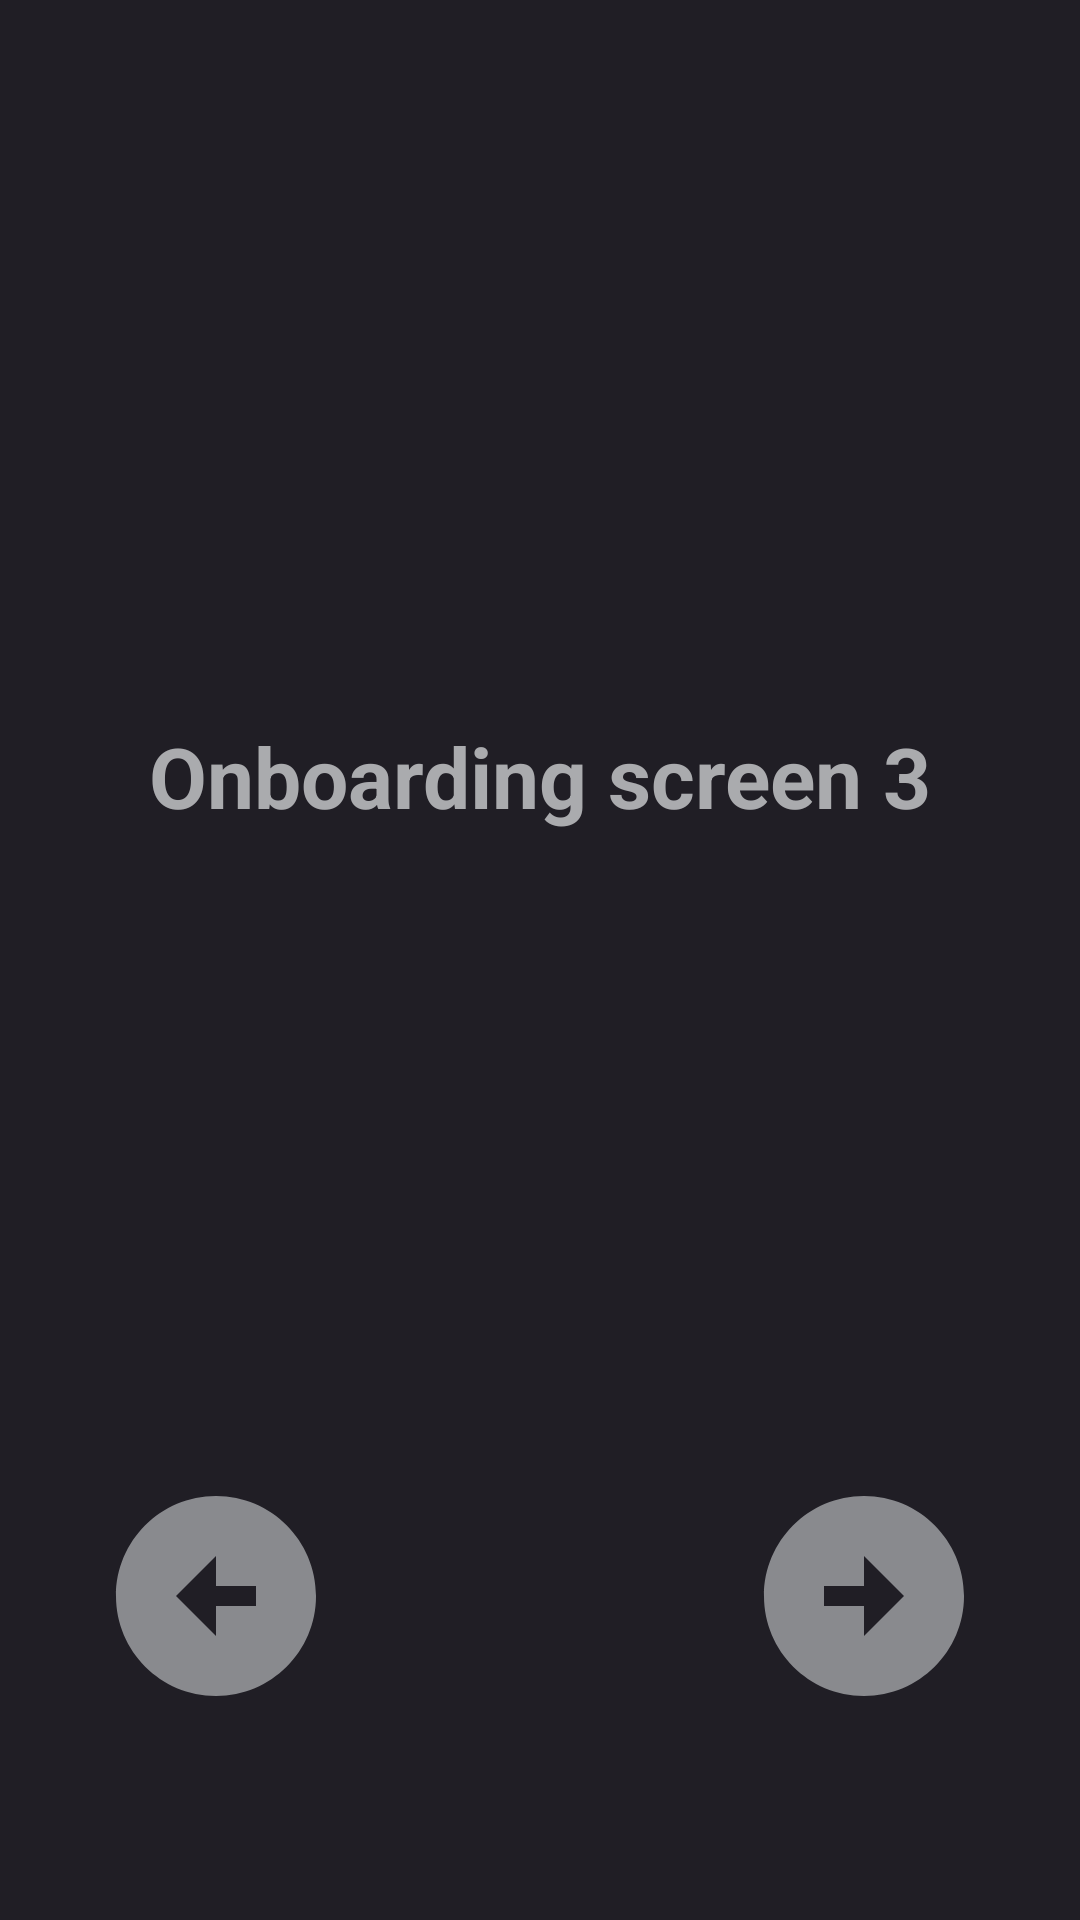

Where to tap for icons on this 1080*1920 app screen, as (x,y):
back: (216,1596)
next: (864,1596)
